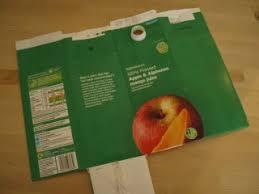cardboard: (16, 8, 247, 178)
